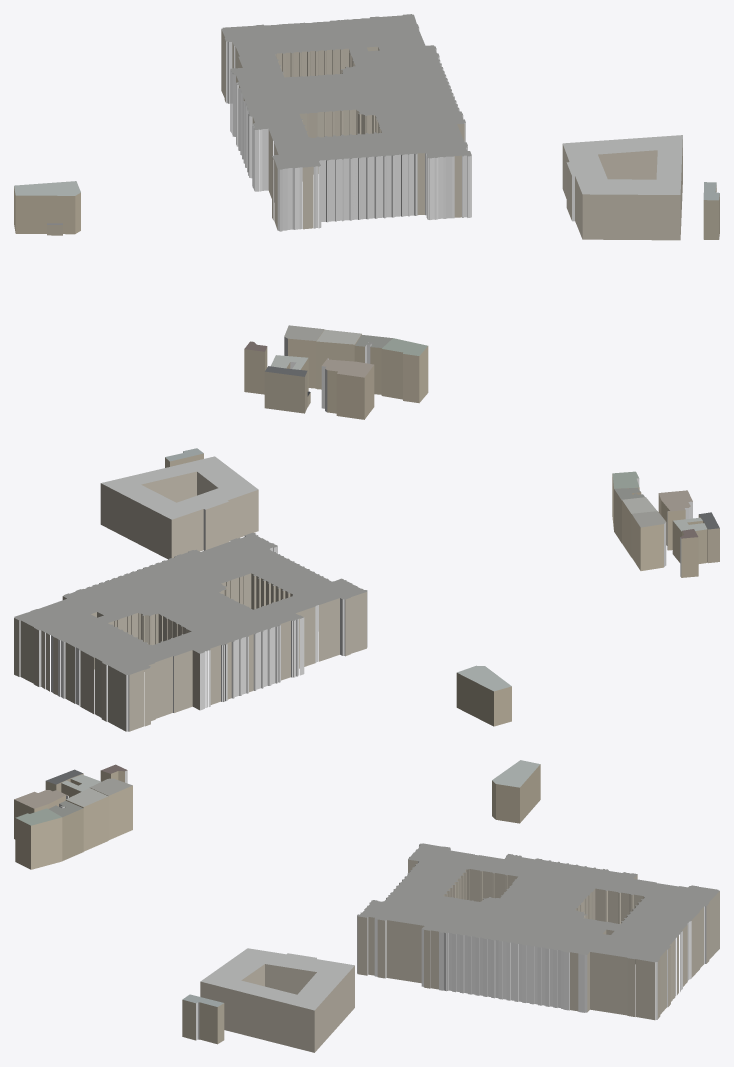
The picture shows the model from 3 angles, top to bottom: view 1: azimuth 30°, elevation 25°; view 2: azimuth 150°, elevation 25°; view 3: azimuth 270°, elevation 25°; orthographic projection. The views are drawn at different scales.
Parts seen in each view (by area): view 1: tuile; view 2: tuile; view 3: tuile.
Boxes of the visible parts, x1,y1,x2,y2 form: tuile: (14, 14, 719, 419); tuile: (14, 448, 719, 731); tuile: (14, 760, 719, 1052).
Bounding box in the file's own units: 272 × 28.76 × 318.
